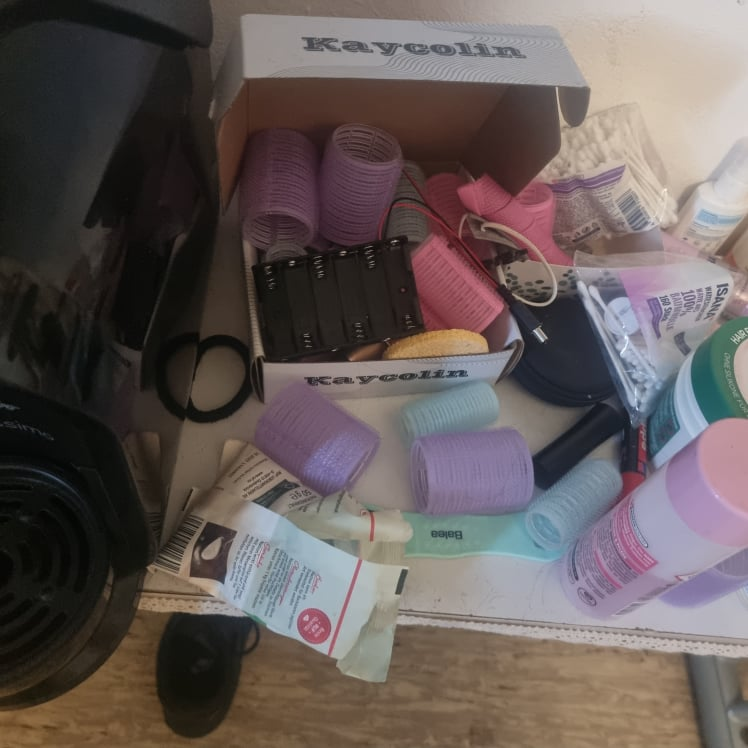BATTERY BOX: (254, 235, 427, 361)
